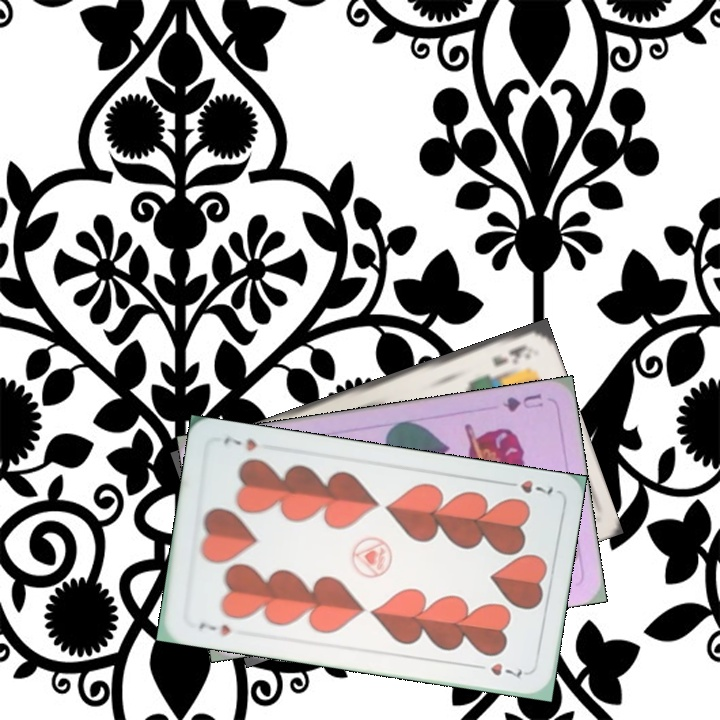EK: (489, 340, 529, 370)
GU: (498, 390, 546, 415)
H7: (499, 476, 556, 497), (194, 618, 233, 639)
